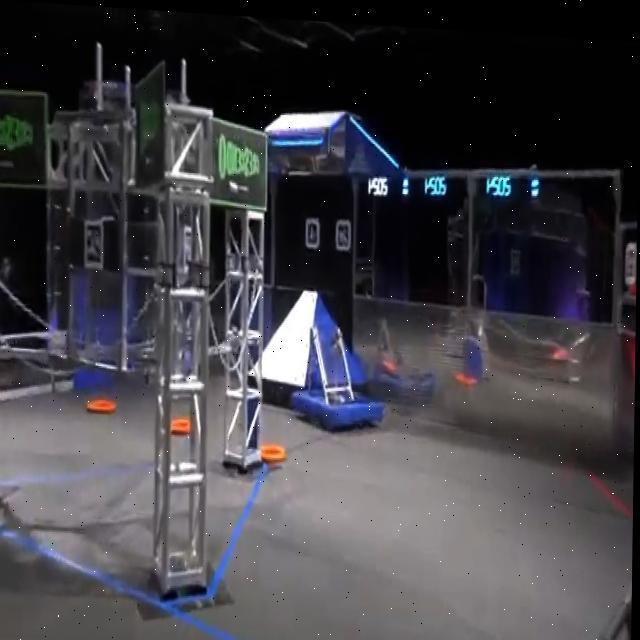robot: (291, 325, 384, 431)
